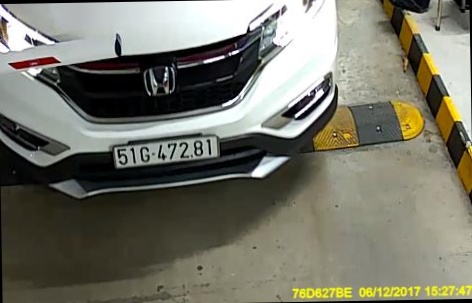plate: (103, 134, 231, 174)
